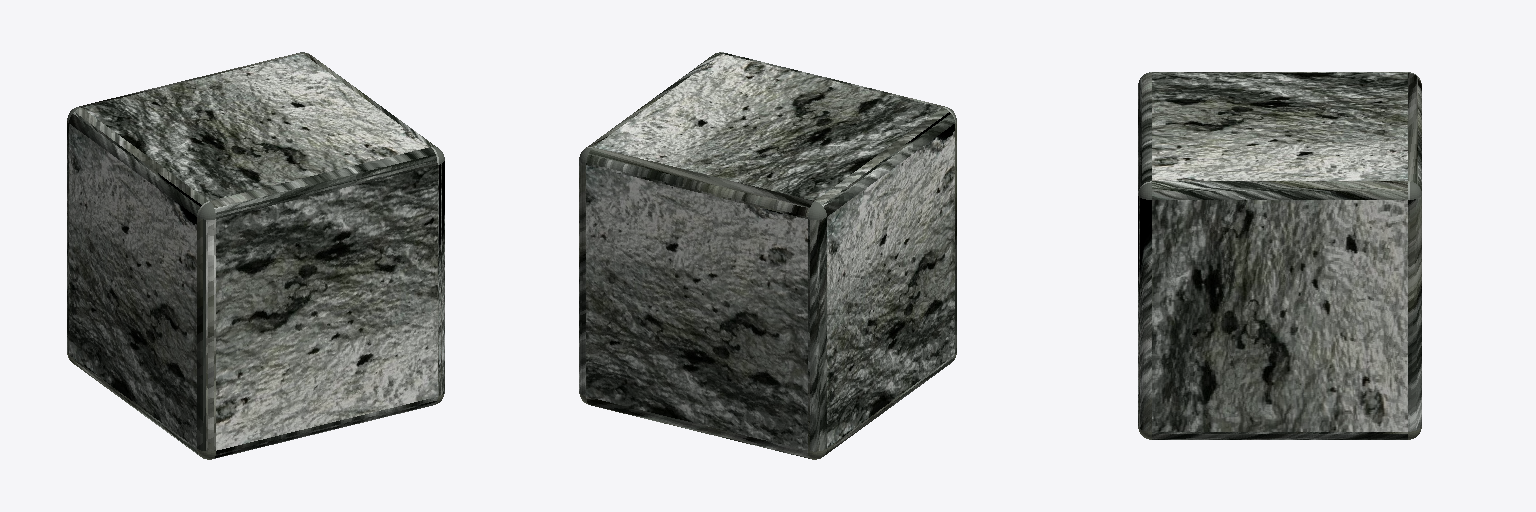
The picture shows the model from 3 angles: view 1: azimuth 30°, elevation 25°; view 2: azimuth 150°, elevation 25°; view 3: azimuth 270°, elevation 25°; orthographic projection.
Parts seen in each view (by area): view 1: Cube; view 2: Cube; view 3: Cube.
Part boxes in pixels (x1,y1,x2,y2): Cube: (67, 52, 444, 459); Cube: (579, 52, 956, 459); Cube: (1138, 72, 1421, 439).
Bounding box in the file's own units: 2 × 2 × 2.
1 materials, 1 textured.